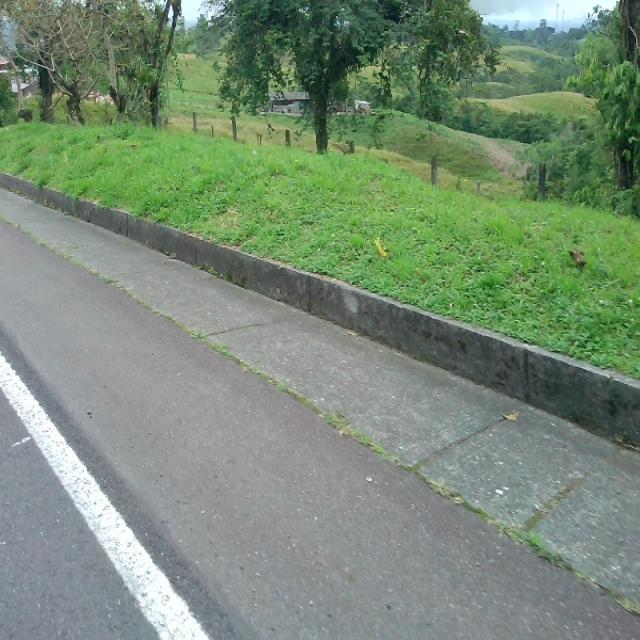DITCH: (1, 103, 638, 638), (1, 109, 639, 638), (1, 175, 639, 638)
